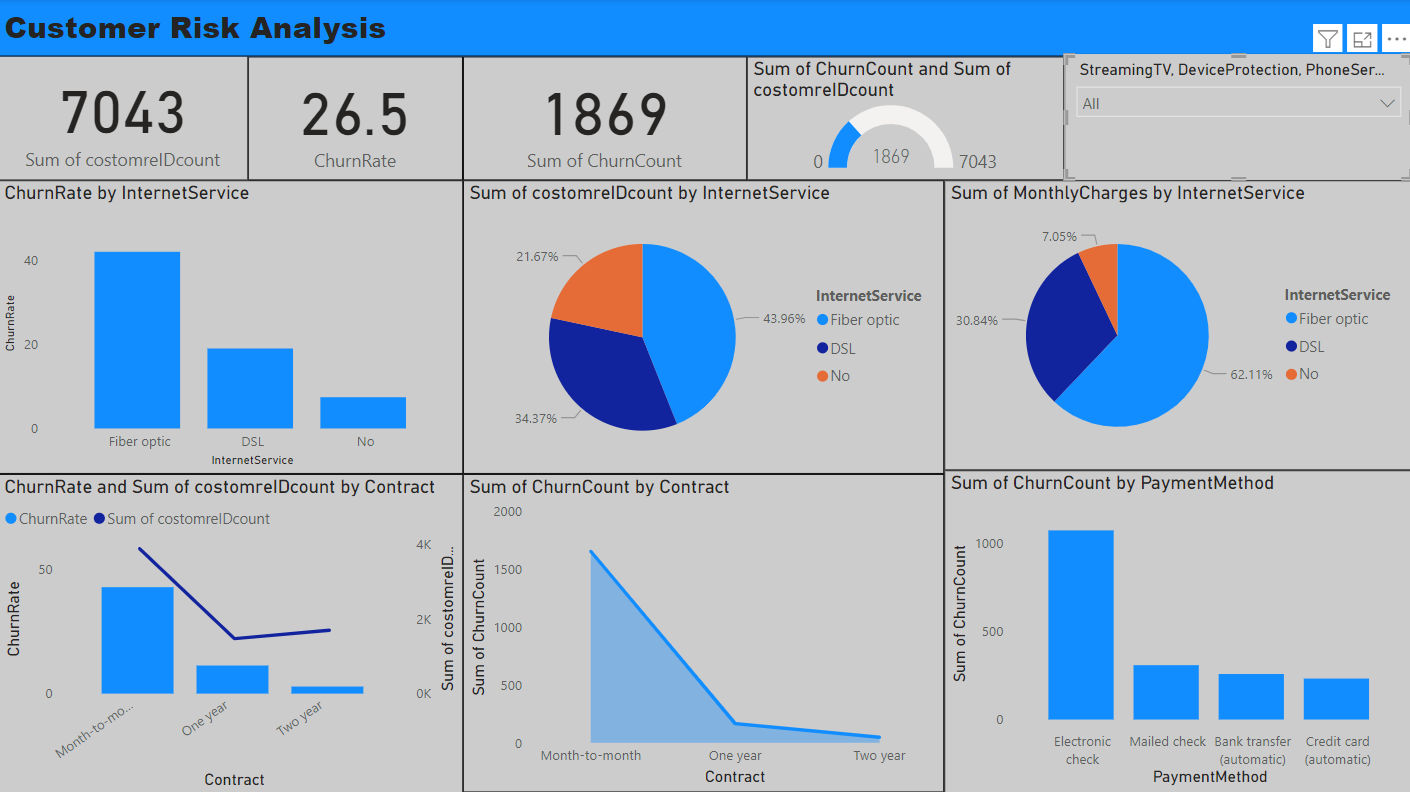

The page's visual inventory and layout, read from the dashboard file:
{"tool":"powerbi","page":{"name":"Page 1","canvas":[1280,720],"ordinal":0},"visuals":[{"type":"card","fields":{"Values":["01 Churn-Dataset.ChurnRate"]},"box":[226.1,52,194.5,111.9],"z":0},{"type":"card","fields":{"Values":["Sum(01 Churn-Dataset.ChurnCount)"]},"box":[420.6,52,256.7,111.9],"z":1000},{"type":"columnChart","fields":{"Category":["01 Churn-Dataset.InternetService"],"Y":["01 Churn-Dataset.ChurnRate"]},"box":[0,163.9,420.6,265.7],"z":2000},{"type":"slicer","fields":{"Values":["01 Churn-Dataset.StreamingTV","01 Churn-Dataset.DeviceProtection","01 Churn-Dataset.PhoneService","01 Churn-Dataset.TechSupport","01 Churn-Dataset.StreamingMovies","01 Churn-Dataset.MultipleLines","01 Churn-Dataset.OnlineBackup","01 Churn-Dataset.OnlineSecurity"]},"box":[964.5,49.7,315.5,114.2],"z":4000},{"type":"lineStackedColumnComboChart","fields":{"Category":["01 Churn-Dataset.PaymentMethod"],"Y":["Sum(01 Churn-Dataset.ChurnCount)"]},"box":[855.9,426.3,424,291.7],"z":5000},{"type":"areaChart","fields":{"Category":["01 Churn-Dataset.Contract"],"Y":["Sum(01 Churn-Dataset.ChurnCount)"]},"box":[420.6,429.7,435.3,288.3],"z":6000},{"type":"pieChart","fields":{"Category":["01 Churn-Dataset.InternetService"],"Y":["Sum(01 Churn-Dataset.MonthlyCharges)"]},"box":[855.9,163.9,424,262.3],"z":7000},{"type":"card","fields":{"Values":["Sum(01 Churn-Dataset.costomreIDcount)"]},"box":[0,49.7,226.1,114.2],"z":8000},{"type":"gauge","fields":{"MaxValue":["Sum(01 Churn-Dataset.costomreIDcount)"],"Y":["Sum(01 Churn-Dataset.ChurnCount)"]},"box":[677.3,52,287.2,111.9],"z":9000},{"type":"pieChart","fields":{"Category":["01 Churn-Dataset.InternetService"],"Y":["Sum(01 Churn-Dataset.costomreIDcount)"]},"box":[420.6,163.9,435.3,265.7],"z":10000},{"type":"lineStackedColumnComboChart","fields":{"Category":["01 Churn-Dataset.Contract"],"Y":["01 Churn-Dataset.ChurnRate"],"Y2":["Sum(01 Churn-Dataset.costomreIDcount)"]},"box":[0,429.7,420.6,290.6],"z":11000},{"type":"textbox","box":[0,0,1279.9,52],"z":11001}]}

Visuals, with their boxes in screenshot pixels (x1, y1, x2, y2):
card - 01 Churn-Dataset.ChurnRate: crop(253, 60, 464, 182)
card - Sum(01 Churn-Dataset.ChurnCount): crop(464, 60, 743, 182)
columnChart - 01 Churn-Dataset.InternetService x 01 Churn-Dataset.ChurnRate: crop(7, 182, 464, 470)
slicer - 01 Churn-Dataset.StreamingTV x 01 Churn-Dataset.DeviceProtection: crop(1055, 58, 1398, 182)
lineStackedColumnComboChart - 01 Churn-Dataset.PaymentMethod x Sum(01 Churn-Dataset.ChurnCount): crop(937, 467, 1398, 784)
areaChart - 01 Churn-Dataset.Contract x Sum(01 Churn-Dataset.ChurnCount): crop(464, 470, 937, 784)
pieChart - 01 Churn-Dataset.InternetService x Sum(01 Churn-Dataset.MonthlyCharges): crop(937, 182, 1398, 467)
card - Sum(01 Churn-Dataset.costomreIDcount): crop(7, 58, 253, 182)
gauge - Sum(01 Churn-Dataset.costomreIDcount) x Sum(01 Churn-Dataset.ChurnCount): crop(743, 60, 1055, 182)
pieChart - 01 Churn-Dataset.InternetService x Sum(01 Churn-Dataset.costomreIDcount): crop(464, 182, 937, 470)
lineStackedColumnComboChart - 01 Churn-Dataset.Contract x 01 Churn-Dataset.ChurnRate: crop(7, 470, 464, 786)
textbox: crop(7, 4, 1398, 60)
